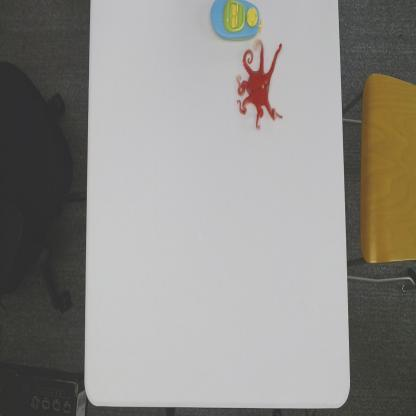Boat: (209, 0, 264, 42)
Octopus: (235, 40, 284, 131)
